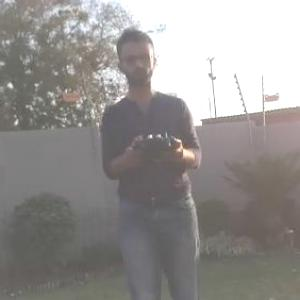follow: (97, 19, 212, 299)
